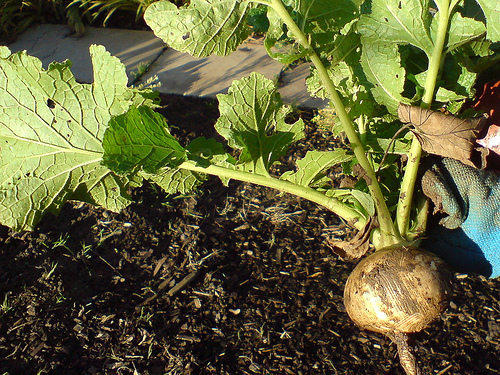turnip: (1, 0, 499, 374)
